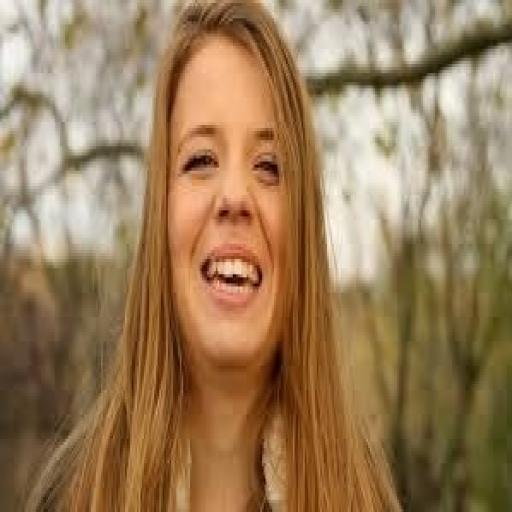laughing: (22, 0, 410, 506)
